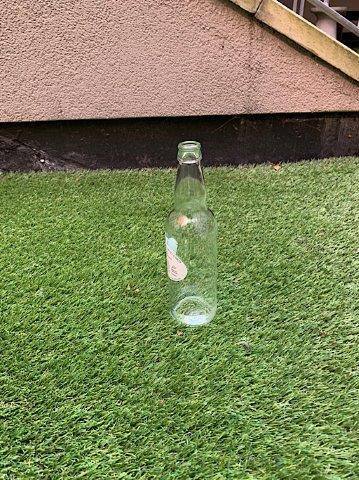botolkaca: (166, 140, 218, 325)
